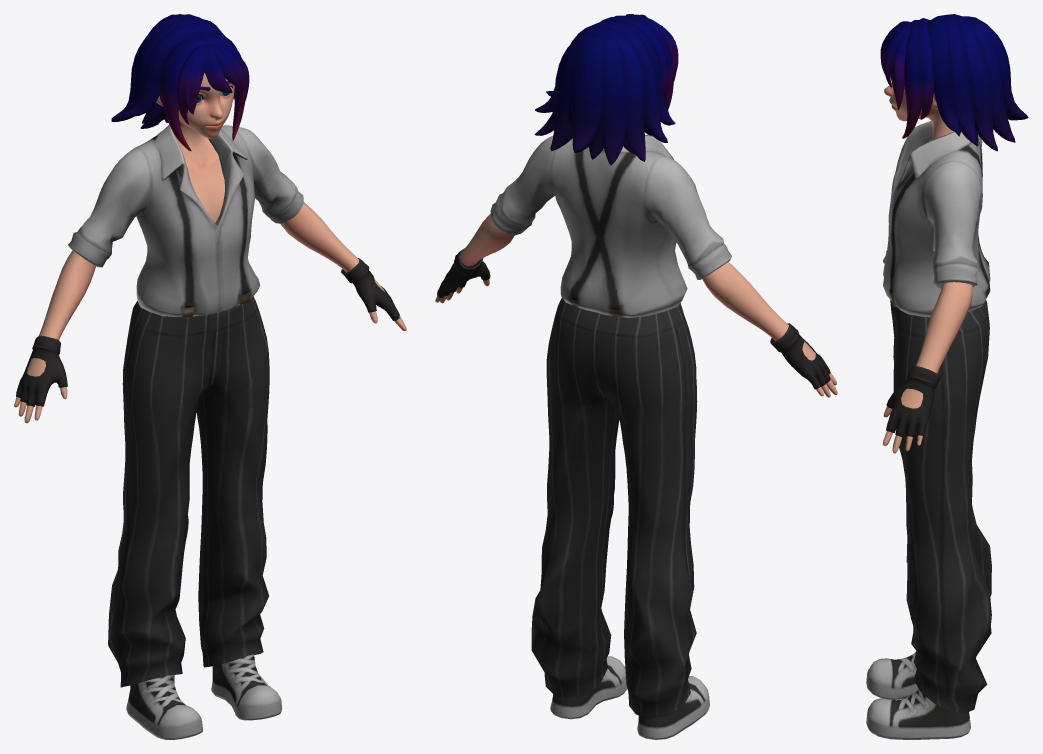
Rendered from StaffCustomerTristy_Mesh.obj.
3 renders of one model, left to right at view 1: azimuth 30°, elevation 25°; view 2: azimuth 150°, elevation 25°; view 3: azimuth 270°, elevation 25°, orthographic. The views are drawn at different scales.
Visible parts, largest first — view 1: StaffCustomerTristy_Mesh_0; view 2: StaffCustomerTristy_Mesh_0; view 3: StaffCustomerTristy_Mesh_0.
Boxes of the visible parts, x1,y1,x2,y2 form: StaffCustomerTristy_Mesh_0: [14, 14, 406, 739]; StaffCustomerTristy_Mesh_0: [435, 14, 837, 739]; StaffCustomerTristy_Mesh_0: [866, 14, 1028, 739].
Bounding box in the file's own units: 1.06 × 1.8 × 0.3835.
1 material, 1 textured.
